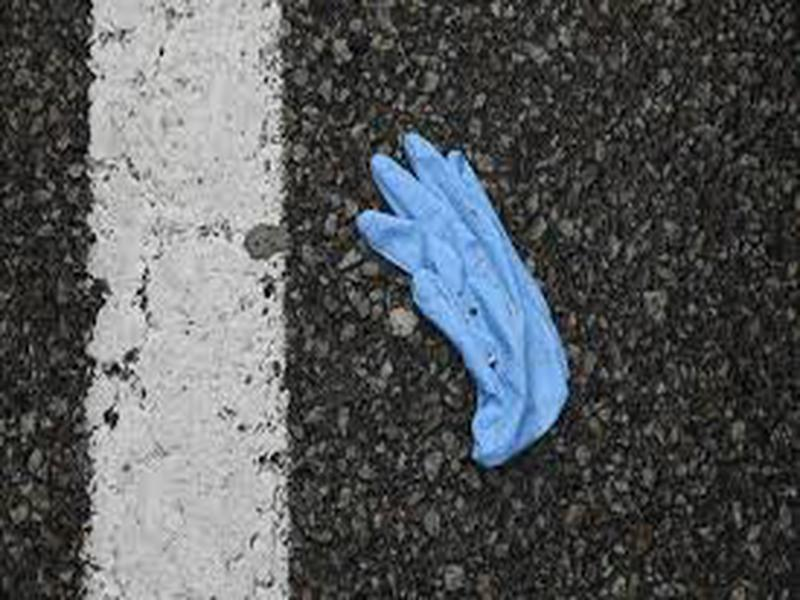gloves: (343, 125, 585, 474)
